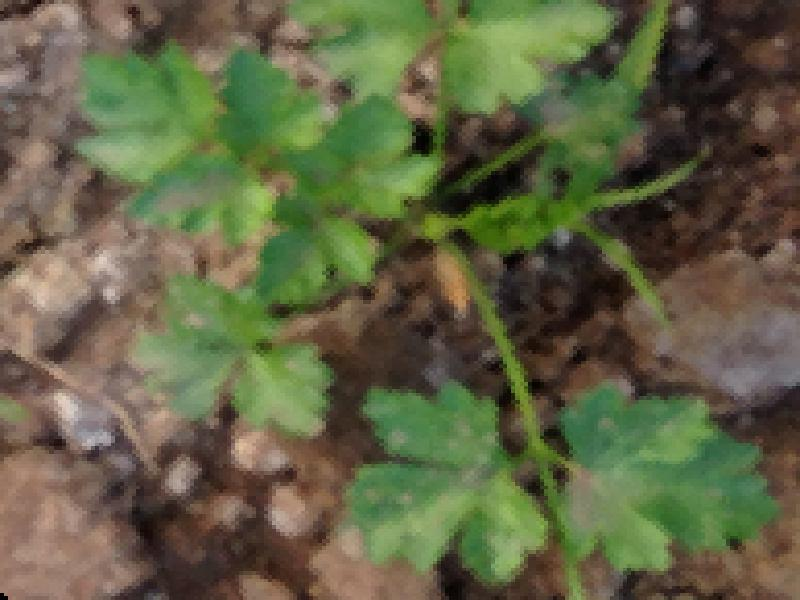radish: (134, 51, 718, 467)
